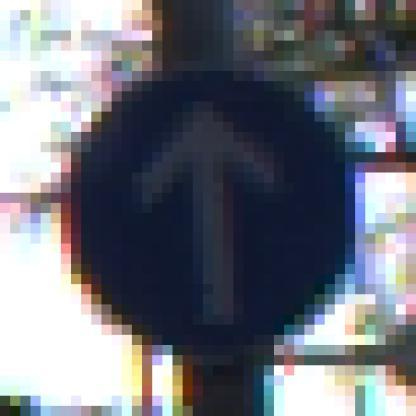straight: (51, 61, 356, 376)
